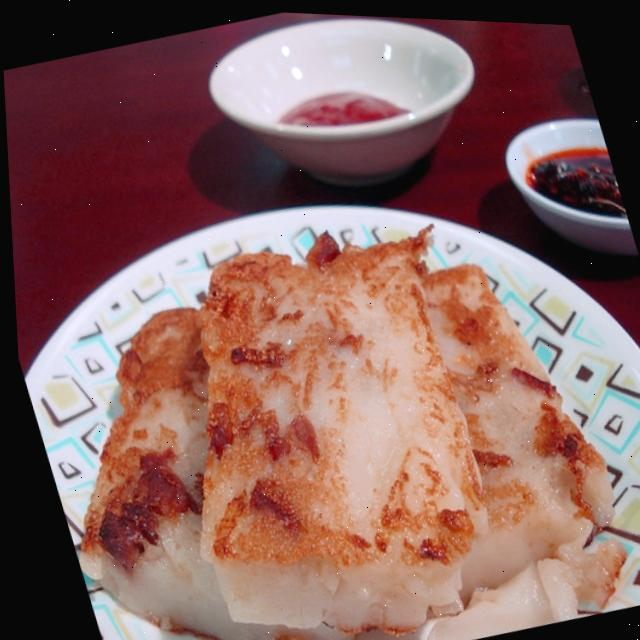蛋糕甜品: (4, 96, 640, 640)
